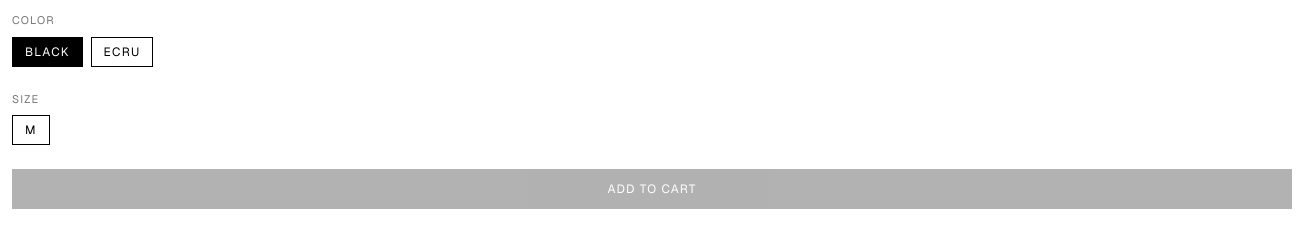
Test case: VariantSelector › 色を変えるとサイズ選択がリセットされる
Click the button "M": click(31, 130) [12, 115, 50, 145]
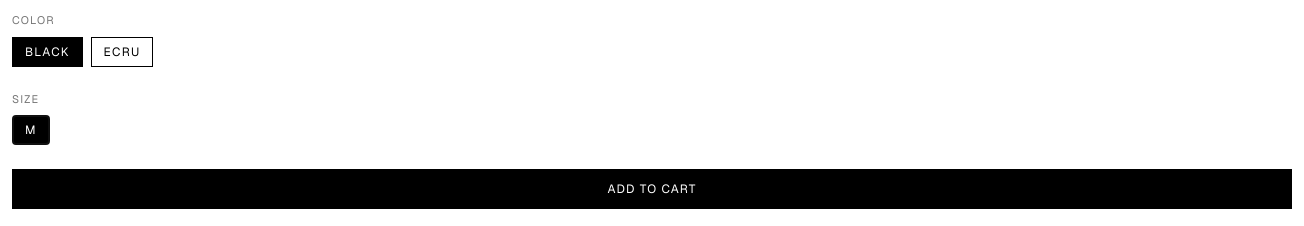
Now the button "Add to Cart" is enabled, box [12, 169, 1292, 209]
Click the button "Ecru": click(122, 52) [90, 36, 153, 66]
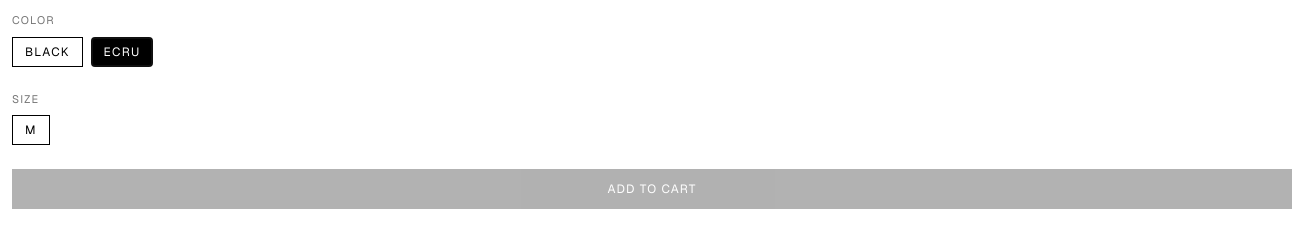
Now the button "Add to Cart" is disabled, box [12, 169, 1292, 209]
